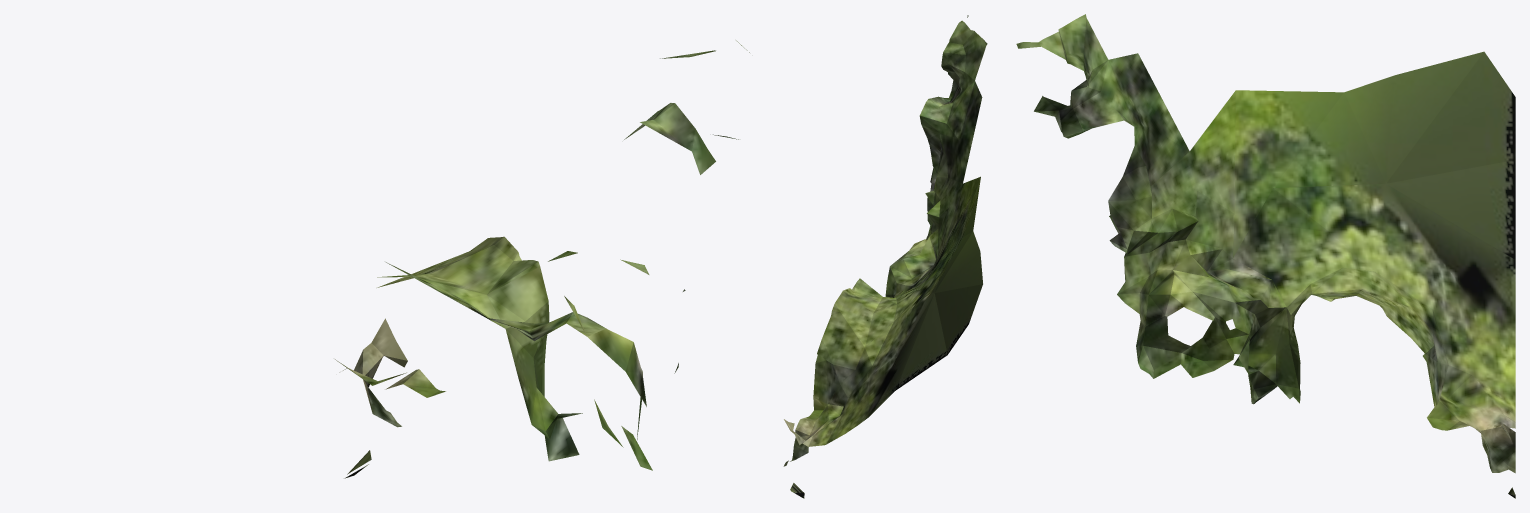
3 renders of one model, left to right at view 1: azimuth 30°, elevation 25°; view 2: azimuth 150°, elevation 25°; view 3: azimuth 270°, elevation 25°, orthographic. The views are drawn at different scales.
Size of the model in its own units: 23.36 by 40.89 by 39.69.
1 material, 1 textured.
